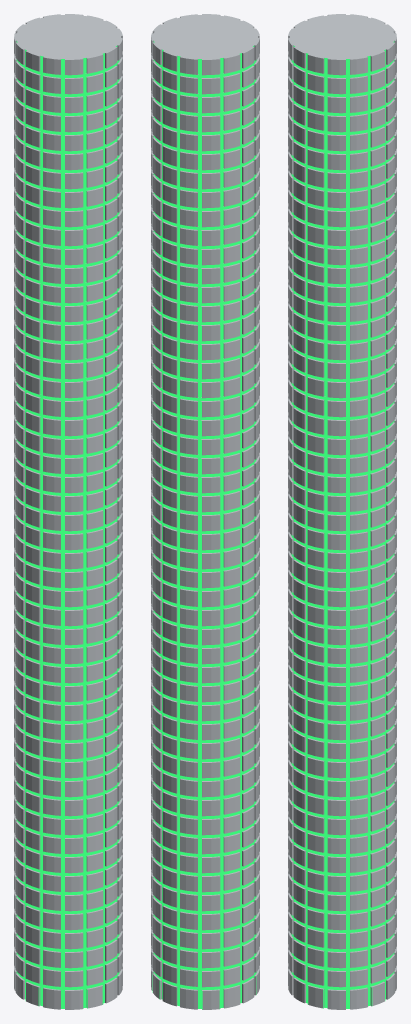
Rendered from Колонна.fbx.
3 views of the same model, side by side, from view 1: azimuth 30°, elevation 25°; view 2: azimuth 150°, elevation 25°; view 3: azimuth 330°, elevation 25° (orthographic).
Visible parts, largest first — view 1: Cylinder; view 2: Cylinder; view 3: Cylinder.
Part boxes in pixels (x1,y1,x2,y2): Cylinder: [14, 14, 122, 1009]; Cylinder: [151, 14, 259, 1009]; Cylinder: [288, 14, 396, 1009].
Size of the model in its own units: 520 by 5000 by 519.
